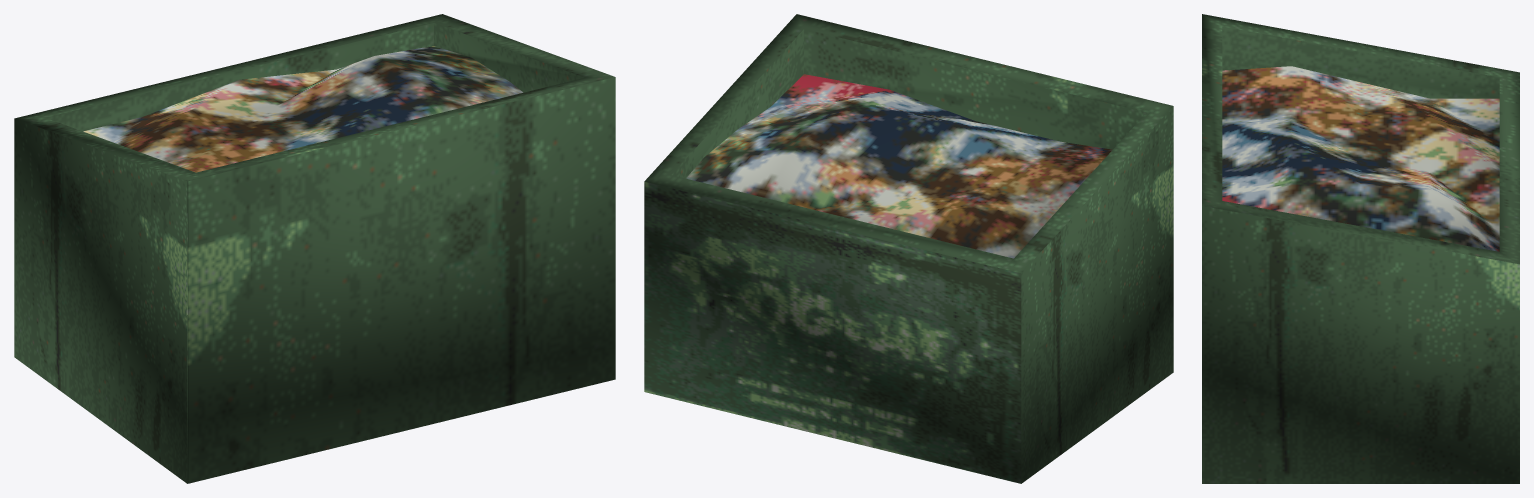
Rendered from dumpster.fbx.
3 renders of one model, left to right at view 1: azimuth 30°, elevation 25°; view 2: azimuth 150°, elevation 25°; view 3: azimuth 270°, elevation 25°, orthographic. The views are drawn at different scales.
Visible parts, largest first — view 1: Dumspter; view 2: Dumspter; view 3: Dumspter.
Boxes of the visible parts, left/top/right/bottom form: Dumspter: left=14, top=14, right=615, bottom=483; Dumspter: left=644, top=14, right=1173, bottom=483; Dumspter: left=1202, top=14, right=1519, bottom=483.
Bounding box in the file's own units: 255 × 172 × 179.
